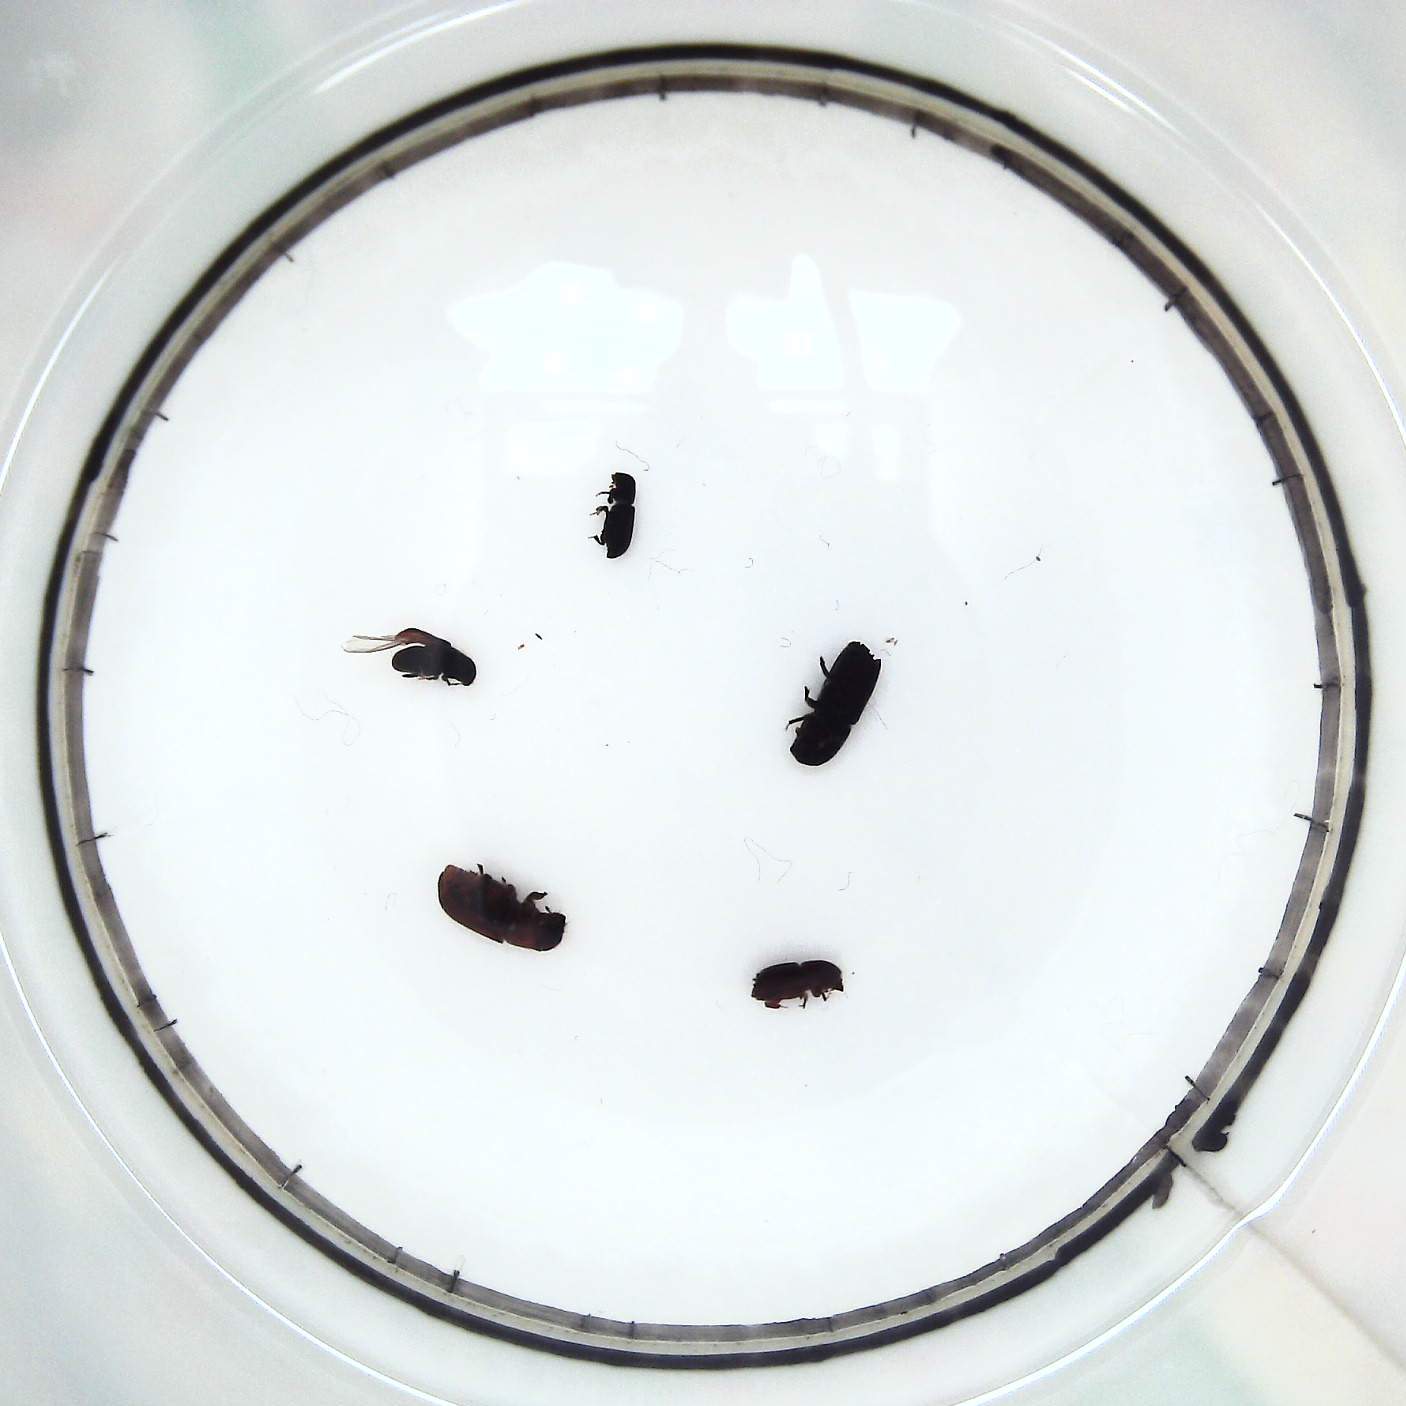Boerner: (785, 633, 888, 773)
Leconte: (433, 856, 568, 958)
armandi: (349, 624, 483, 690)
coleoptera: (590, 464, 646, 565)
linnaeus: (742, 958, 846, 1017)
